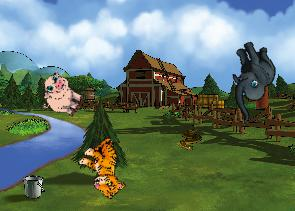elephant: (210, 35, 292, 123)
pig: (35, 69, 89, 121)
tiger: (71, 132, 140, 202)
